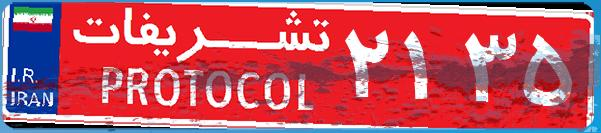1: (400, 20, 460, 115)
2: (340, 20, 400, 115)
3: (460, 20, 520, 115)
5: (520, 20, 580, 115)
تشریفات: (60, 8, 340, 125)
